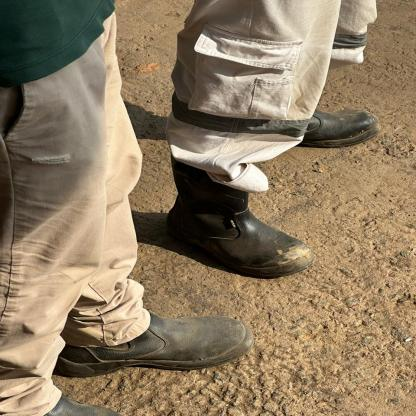bota: (156, 157, 327, 284), (40, 294, 258, 372), (293, 88, 397, 156)
